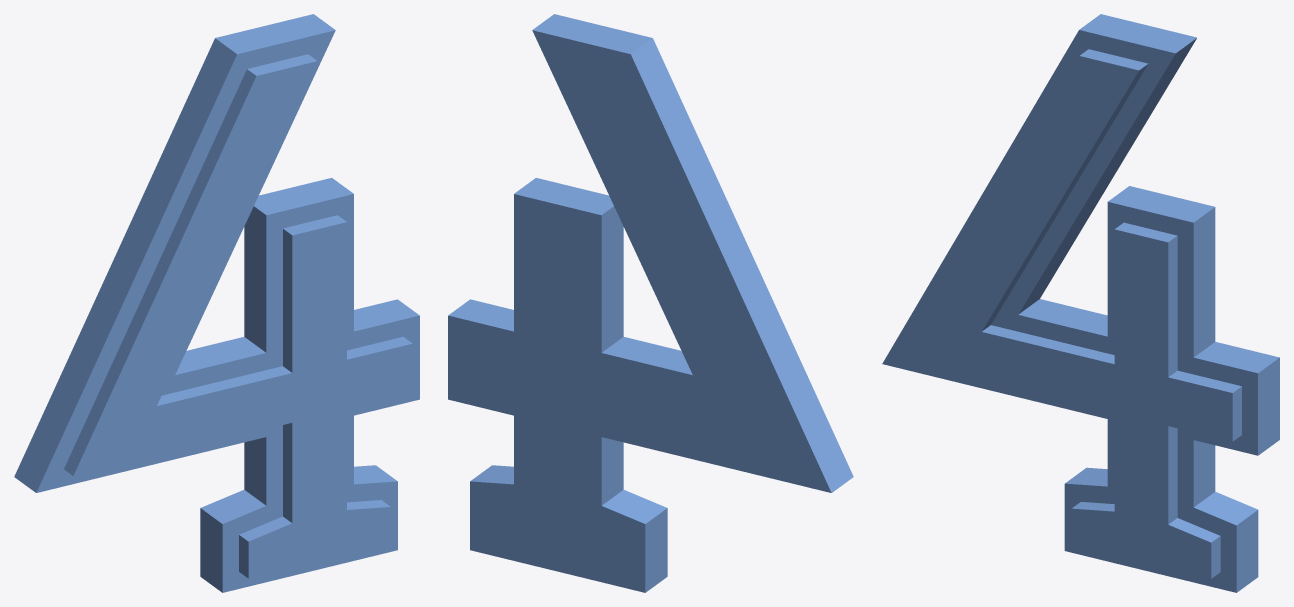
3 renders of one model, left to right at view 1: azimuth 30°, elevation 25°; view 2: azimuth 150°, elevation 25°; view 3: azimuth 330°, elevation 25°, orthographic. The views are drawn at different scales.
Parts seen in each view (by area): view 1: 4; view 2: 4; view 3: 4.
Boxes of the visible parts, x1,y1,x2,y2 form: 4: (14, 14, 419, 592); 4: (448, 14, 853, 592); 4: (882, 14, 1279, 592).
Size of the model in its own units: 3.5 by 4.67 by 0.5.
